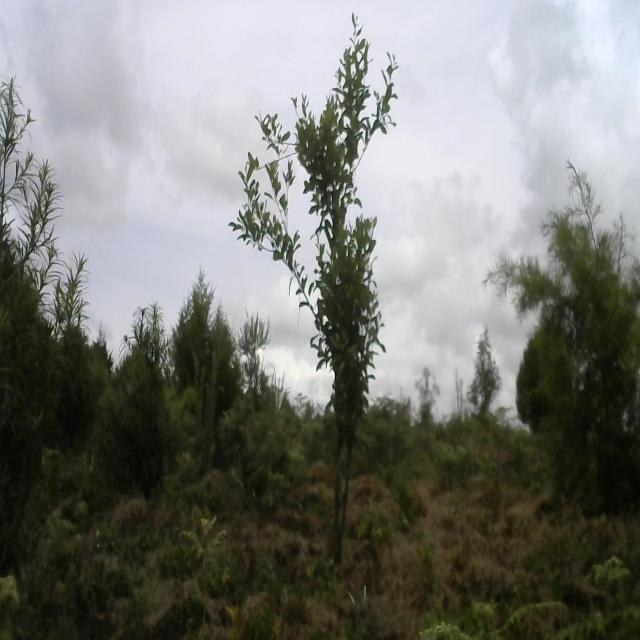Podocarpus falcatus: (0, 64, 94, 559)
cedrus: (513, 186, 640, 516), (174, 282, 232, 449)
other: (229, 22, 409, 536)
